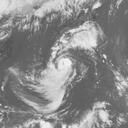cyclone: (35, 58, 76, 103)
